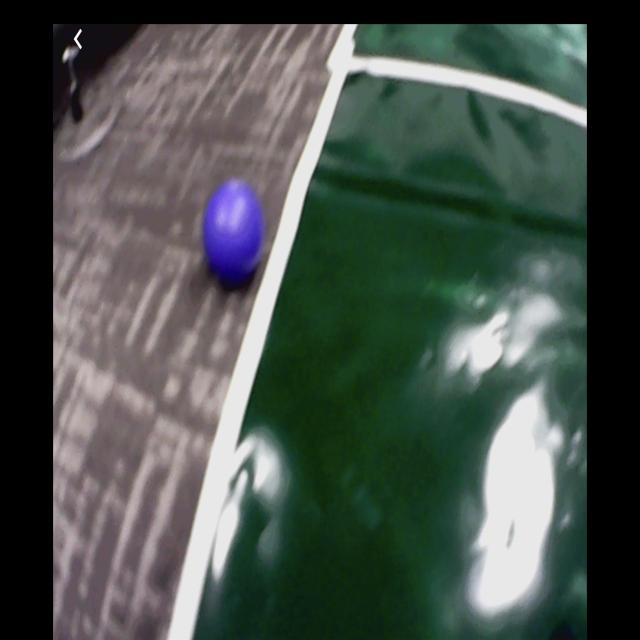ball: (208, 185, 264, 276)
